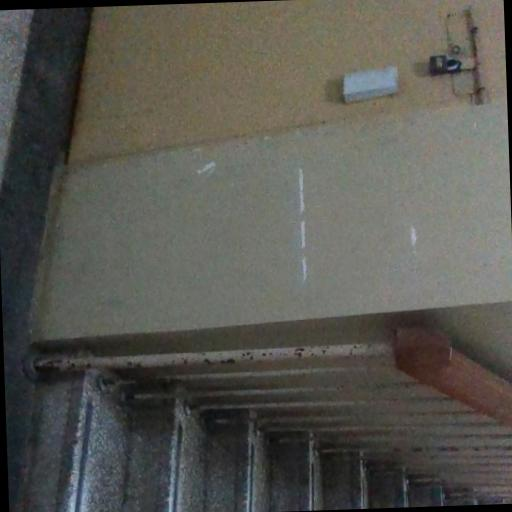stairs: (22, 373, 475, 511)
